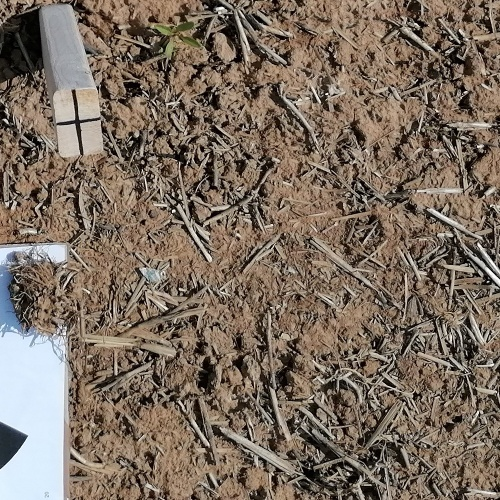beet: (154, 19, 201, 59)
